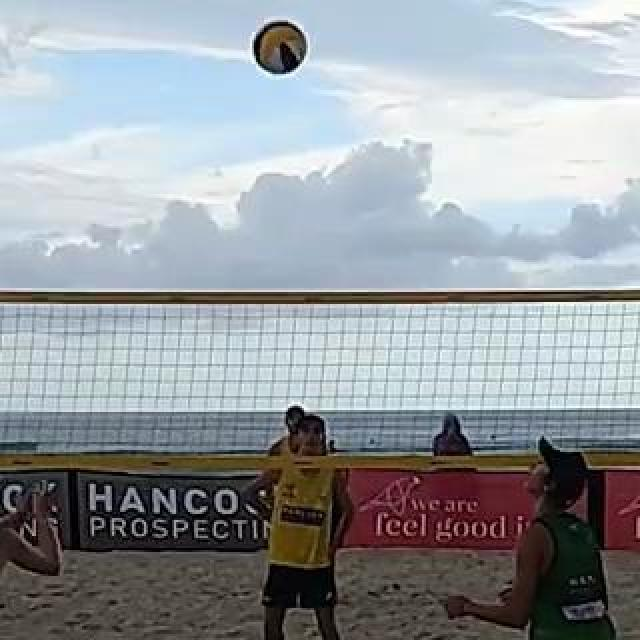volleyball: (254, 19, 310, 75)
